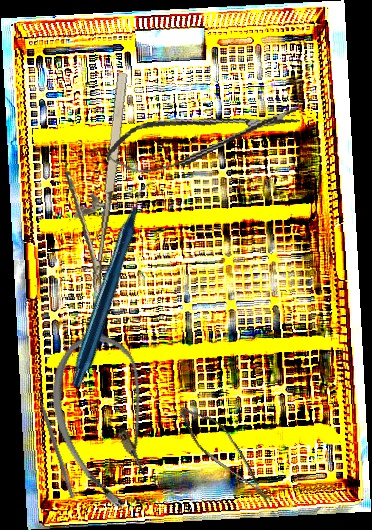Cannula: (32, 323, 182, 518)
Handpiece: (2, 179, 227, 391)
Micro Scissor: (102, 96, 304, 179), (165, 401, 292, 506)
Needle Holder: (48, 66, 135, 293)
Spatula Surgical: (33, 388, 80, 499)
